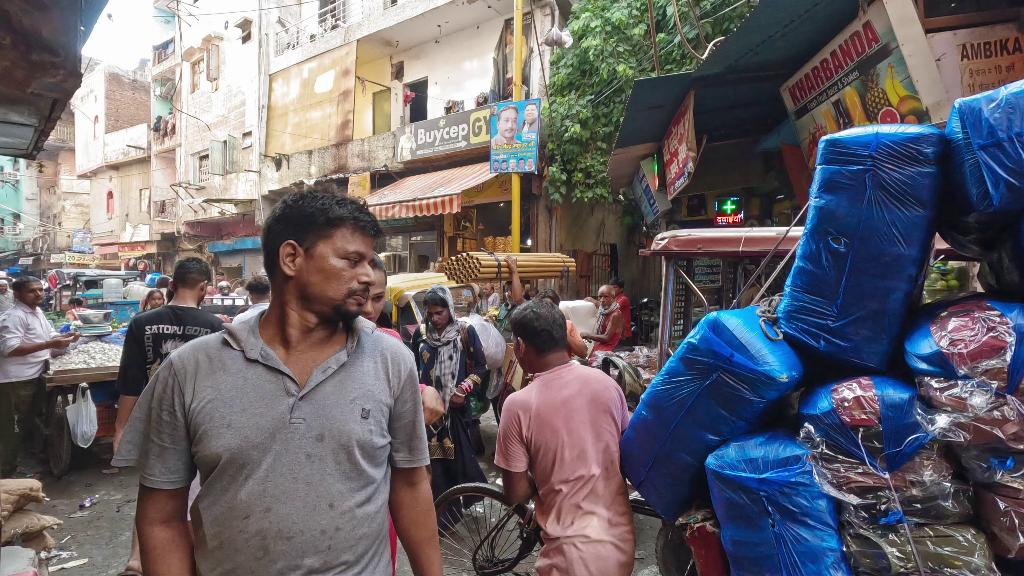garbage: (65, 383, 101, 448), (48, 557, 90, 571), (42, 549, 79, 561), (79, 493, 102, 508)
